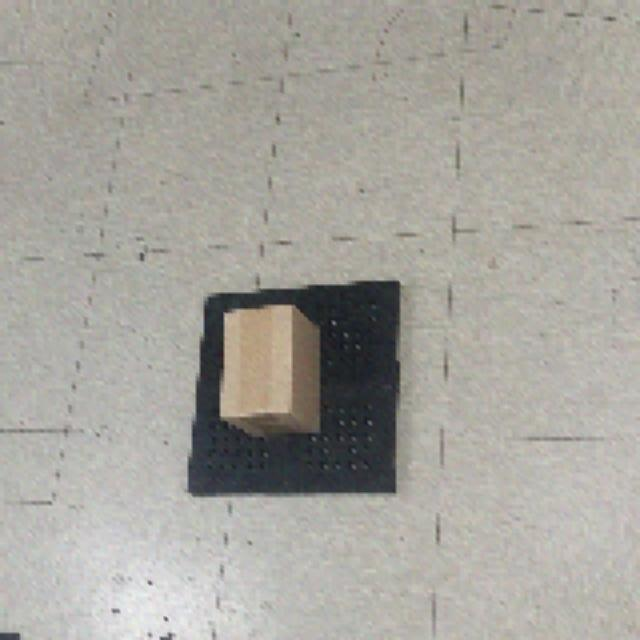box: (212, 296, 327, 444)
pallet: (90, 180, 508, 596)
